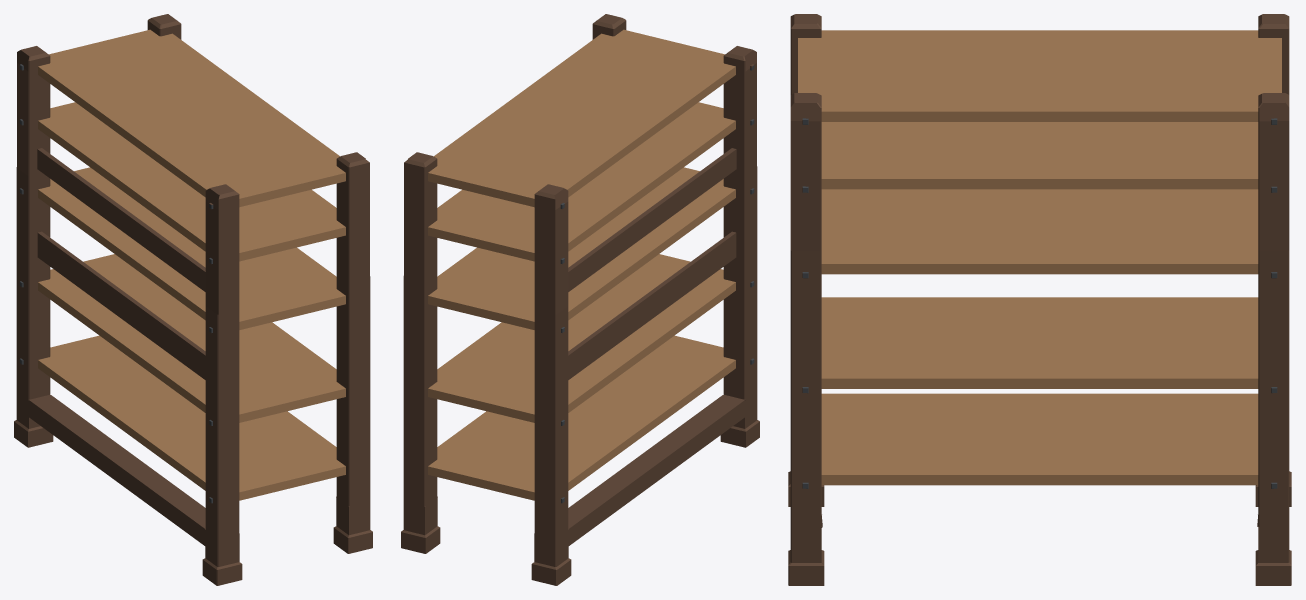
Rendered from Potion_Rack.fbx.
3 views of the same model, side by side, from view 1: azimuth 30°, elevation 25°; view 2: azimuth 150°, elevation 25°; view 3: azimuth 270°, elevation 25° (orthographic). The views are drawn at different scales.
Visible parts, largest first — view 1: Cube, Cube.005, Cube.001, Cube.002, Cube.004, Cube.003; view 2: Cube, Cube.005, Cube.001, Cube.002, Cube.004, Cube.003; view 3: Cube.005, Cube.001, Cube.002, Cube.003, Cube, Cube.004.
Boxes of the visible parts, left/top/right/bottom form: Cube: left=14, top=14, right=372, bottom=585; Cube.005: left=38, top=29, right=345, bottom=207; Cube.001: left=38, top=335, right=345, bottom=500; Cube.002: left=38, top=254, right=345, bottom=422; Cube.004: left=38, top=102, right=345, bottom=261; Cube.003: left=38, top=167, right=345, bottom=329; Cube: left=401, top=14, right=759, bottom=585; Cube.005: left=428, top=29, right=735, bottom=207; Cube.001: left=428, top=335, right=735, bottom=500; Cube.002: left=428, top=254, right=735, bottom=422; Cube.004: left=428, top=102, right=735, bottom=261; Cube.003: left=428, top=167, right=735, bottom=329; Cube.005: left=798, top=30, right=1281, bottom=121; Cube.001: left=821, top=393, right=1258, bottom=485; Cube.002: left=821, top=297, right=1258, bottom=388; Cube.003: left=821, top=189, right=1258, bottom=274; Cube: left=788, top=14, right=1291, bottom=585; Cube.004: left=821, top=122, right=1258, bottom=189.
Bounding box in the file's own units: 101 × 241 × 229.
